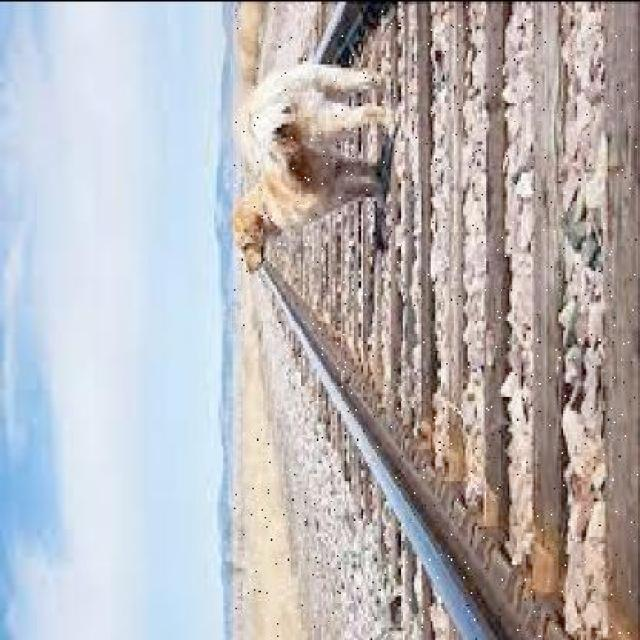rail: (234, 5, 639, 640)
